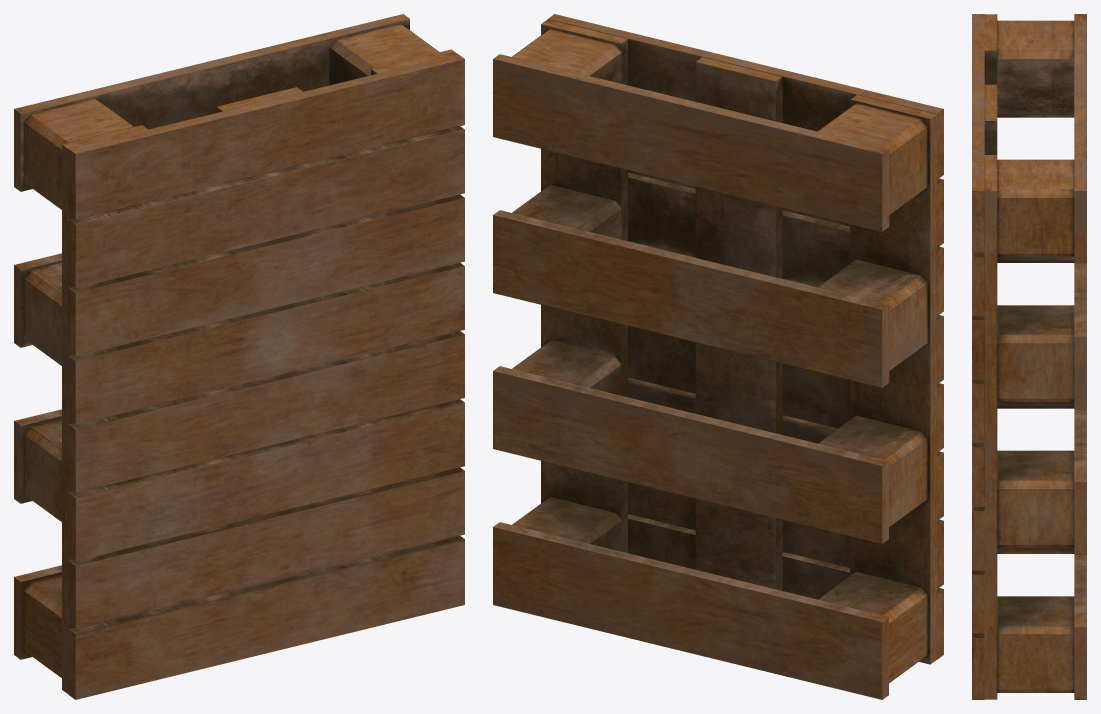
File: pallet.glb
3 renders of one model, left to right at view 1: azimuth 30°, elevation 25°; view 2: azimuth 150°, elevation 25°; view 3: azimuth 270°, elevation 25°, orthographic. The views are drawn at different scales.
Visible parts, largest first — view 1: pallet; view 2: pallet; view 3: pallet.
Boxes of the visible parts, x1,y1,x2,y2 form: pallet: (14, 14, 464, 699); pallet: (493, 14, 943, 699); pallet: (972, 14, 1086, 699).
Size of the model in its own units: 0.7452 by 0.9984 by 0.204.
Materials: 1 (1 with a texture image).
